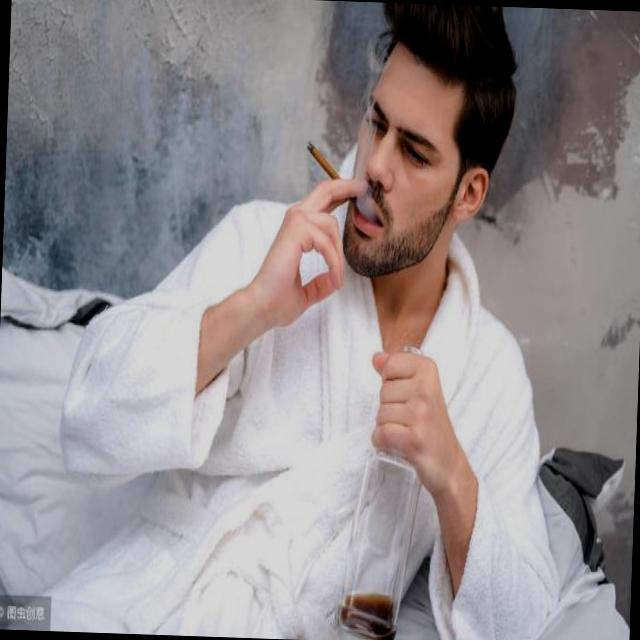cigarette: (297, 125, 351, 203)
